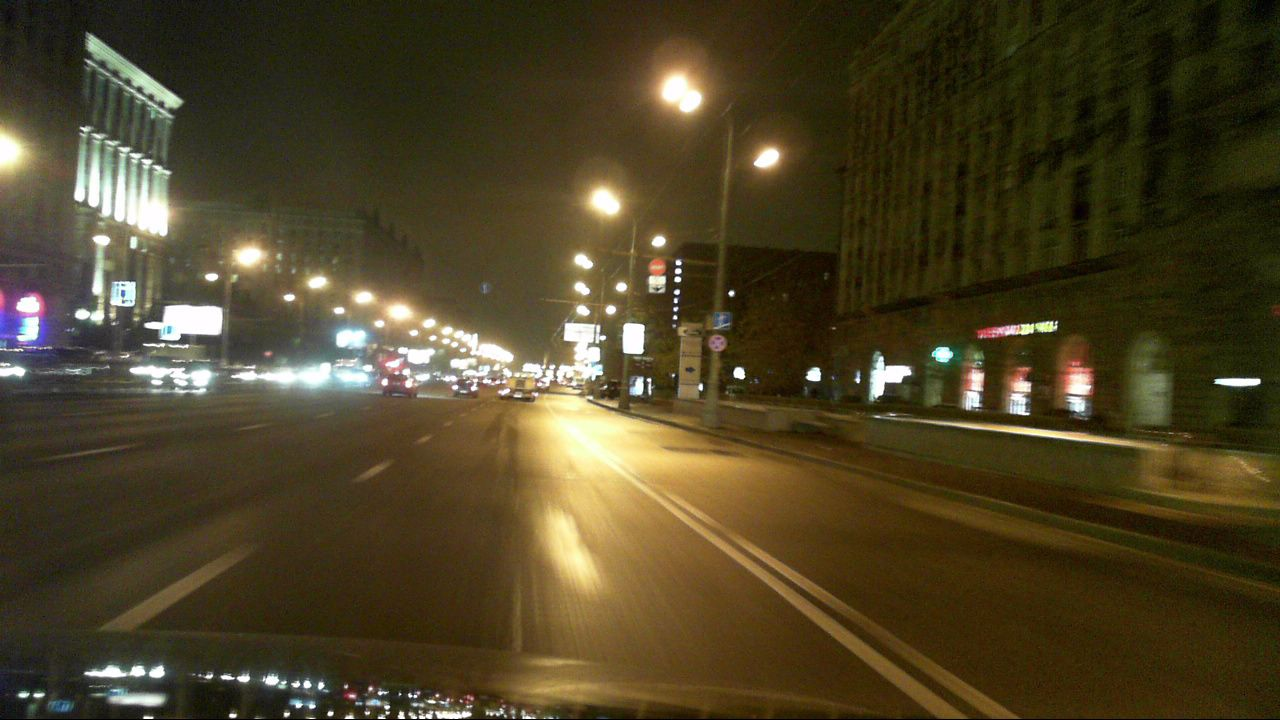No Parking: (709, 333, 727, 351)
